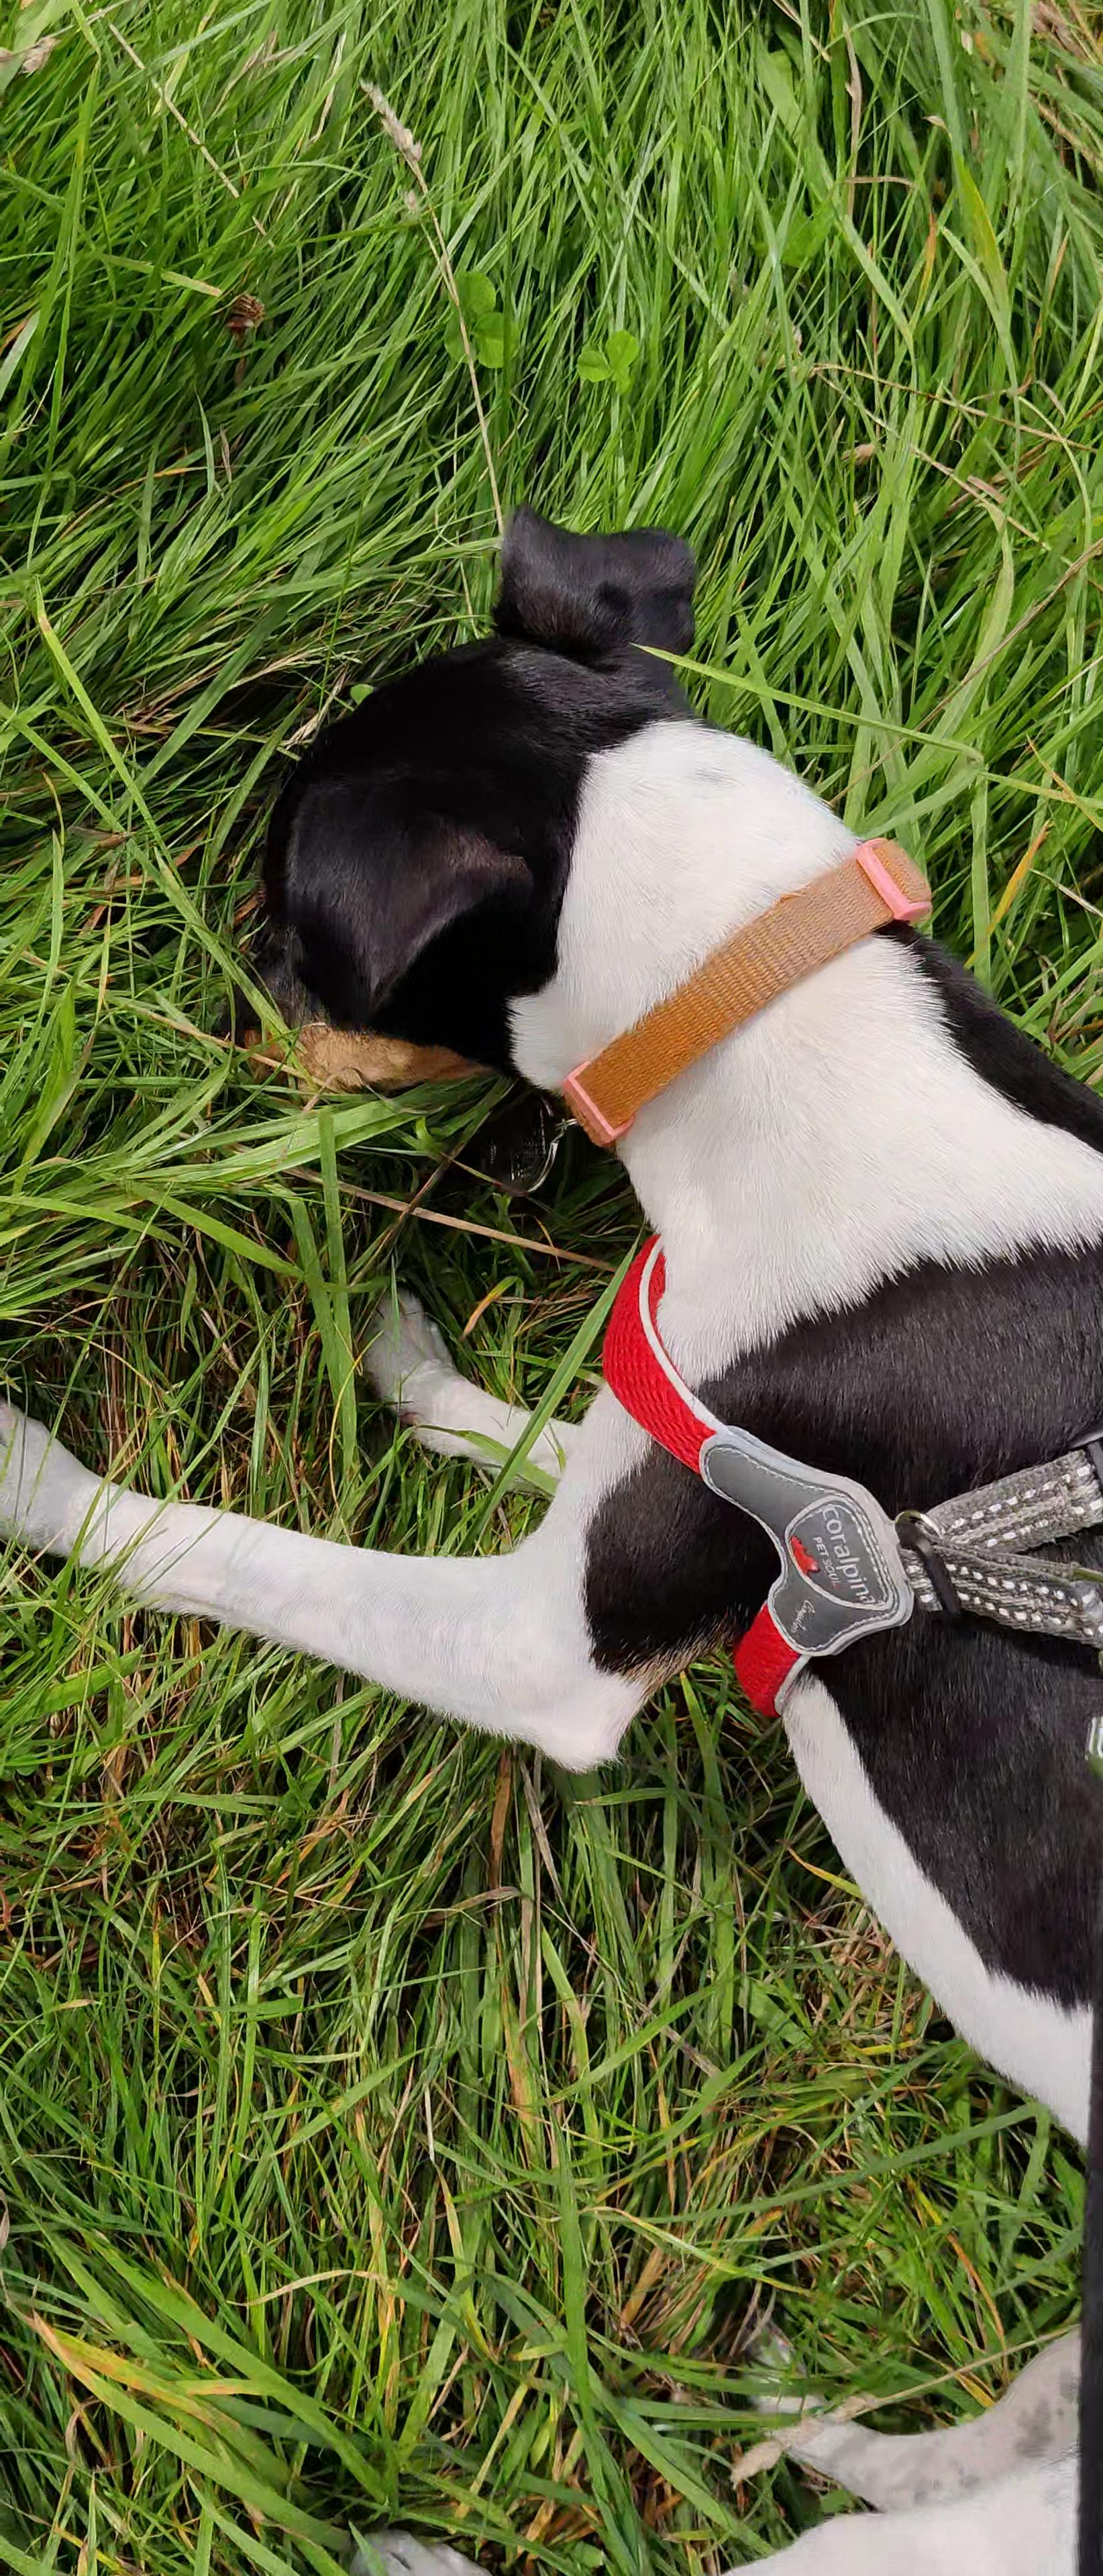Dog: (0, 483, 1103, 2576)
